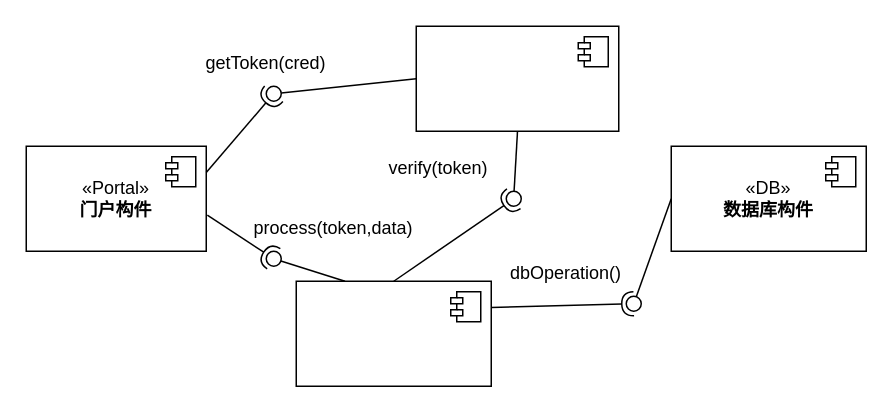
Image size: 893x413. Some labels were removed from this diagram. The shapes that lost their labels are listed below. From the top down, each one's centre as x and y in pixels, then its label:
At point (517, 78): "«Auth» 身份验证构件".
At point (393, 333): "«Proc» 业务处理构件".
